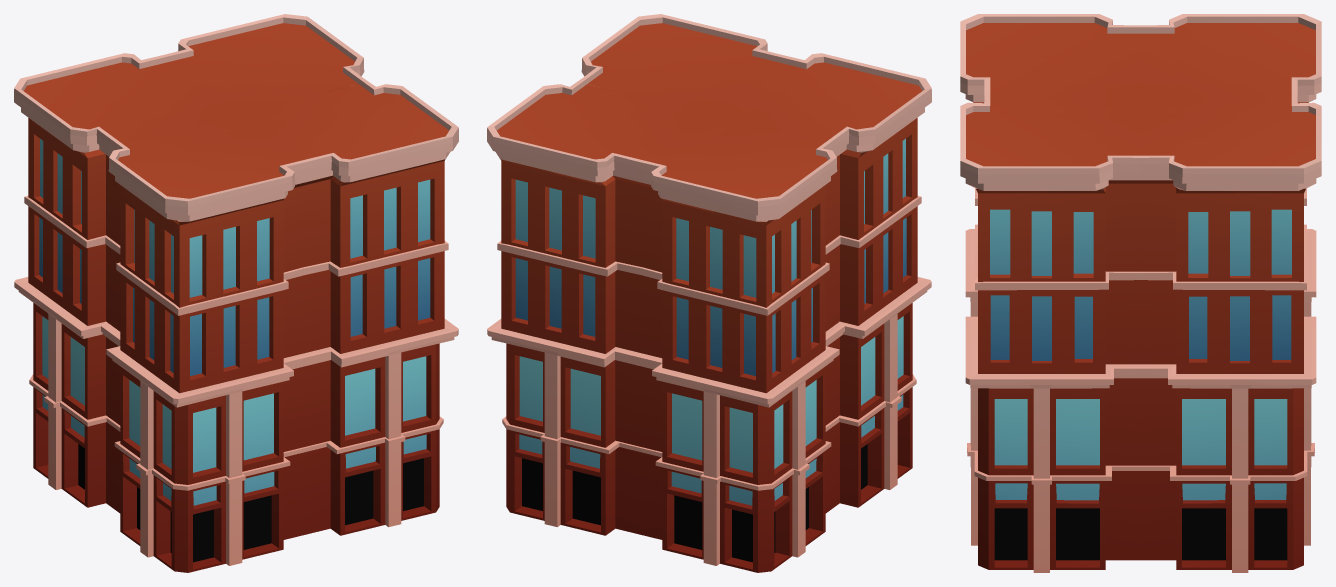
File: liveBuilding.fbx
3 renders of one model, left to right at view 1: azimuth 30°, elevation 25°; view 2: azimuth 150°, elevation 25°; view 3: azimuth 270°, elevation 25°, orthographic. The views are drawn at different scales.
Parts seen in each view (by area): view 1: House; view 2: House; view 3: House.
Boxes of the visible parts, x1,y1,x2,y2 form: House: [14, 14, 458, 572]; House: [487, 14, 931, 572]; House: [960, 14, 1321, 572].
Size of the model in its own units: 2119 by 2618 by 2098.
Materials: 4 (3 with a texture image).
